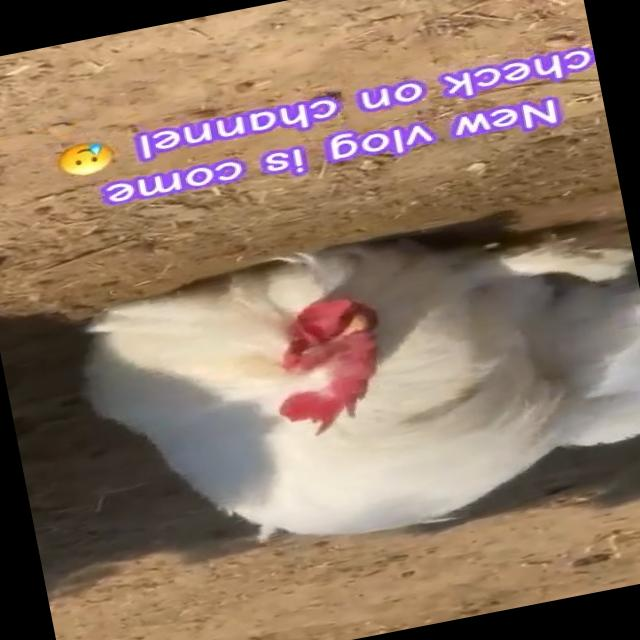stand bath: (61, 184, 640, 589)
